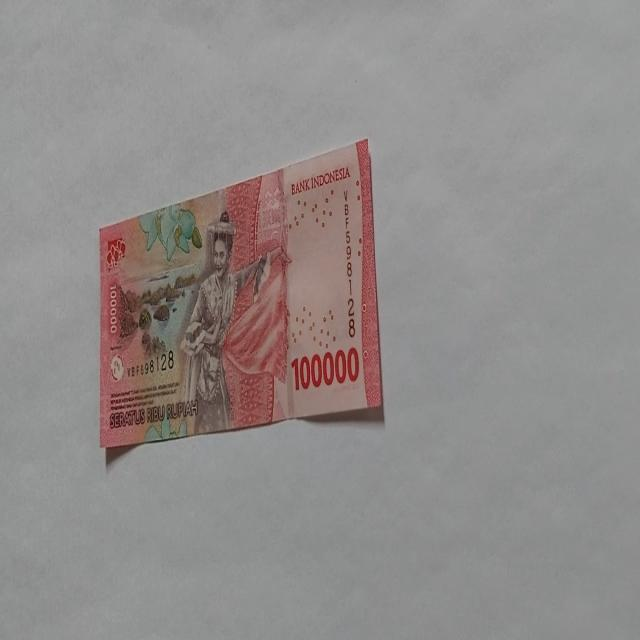seratus ribu rupiah: (98, 137, 384, 449), (178, 210, 272, 434)
